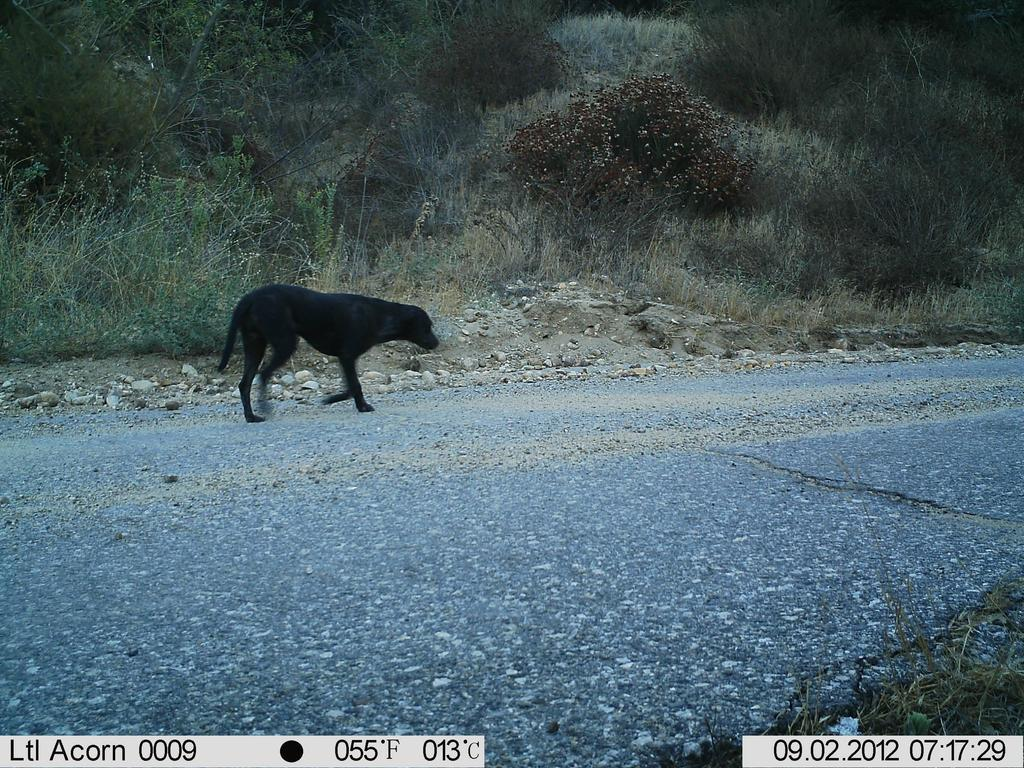dog: (200, 279, 450, 434)
